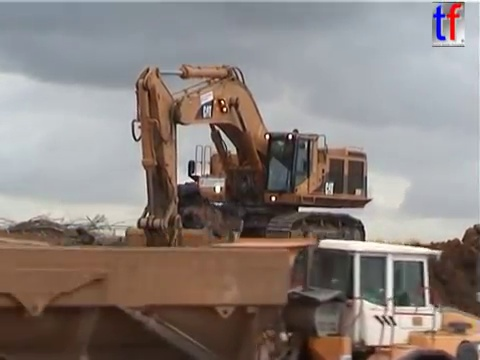excavator: (128, 61, 375, 265)
truck: (1, 223, 480, 360)
